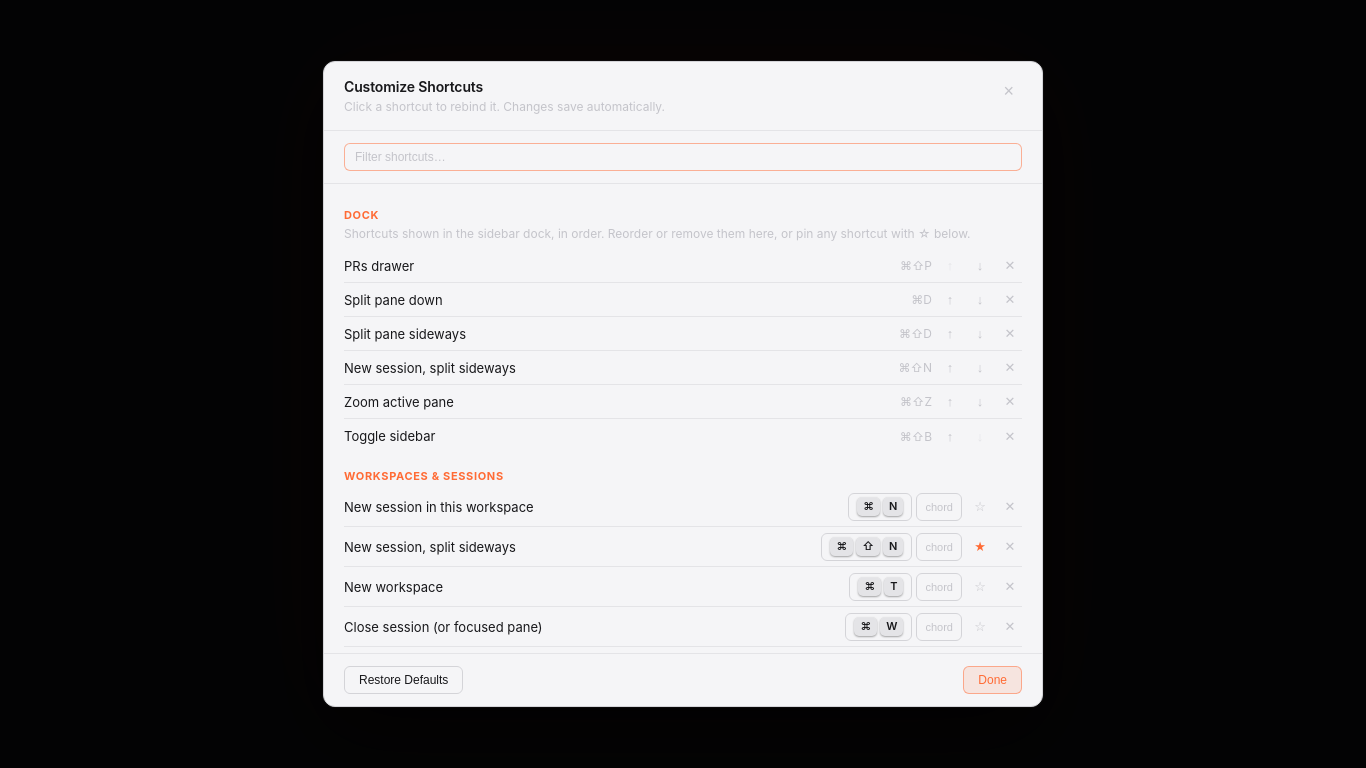
ShortcutEditorModal › unbinds a shortcut and persists the override
The width and height of the screenshot is (1366, 768).
What coordinates should you click on to do the following:
click the button titled "Unbind" in the row of "New session in this workspace"
I would click on:
 (1010, 507)
Its box is left=998, top=495, right=1022, bottom=519.
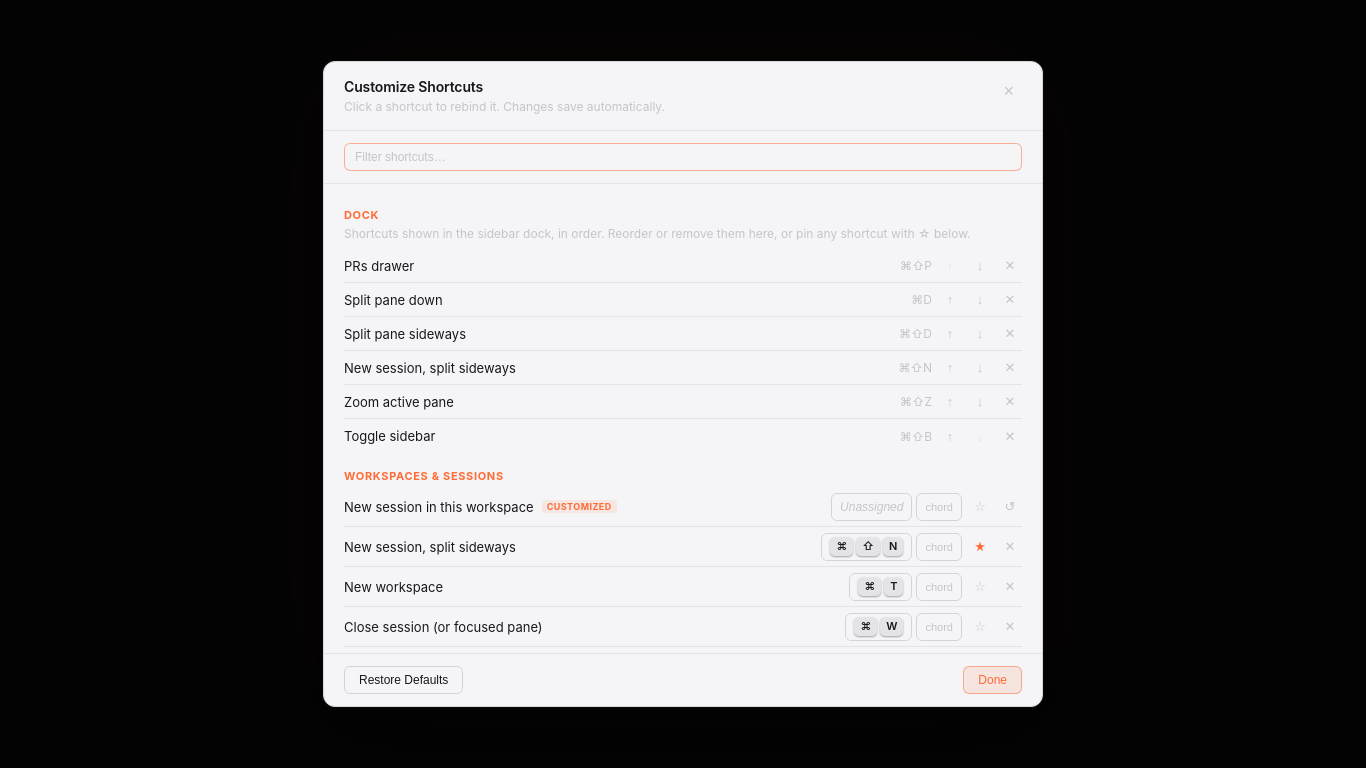
Check: the text "New session in this workspace" shows "Unassigned", box left=831, top=493, right=912, bottom=521
